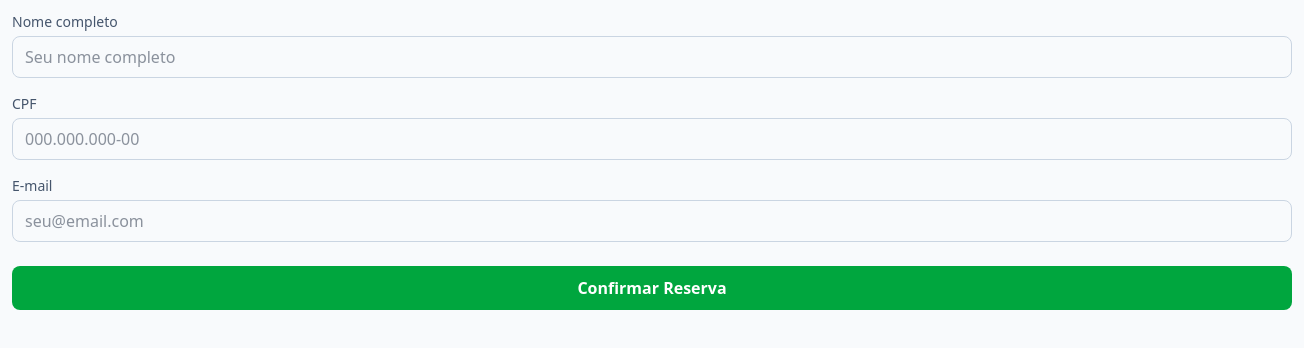
PassengerForm › exibe erro com CPF inválido
Type "João da Silva" into the field labelled "Nome completo" at (652, 57), box [12, 36, 1292, 78]
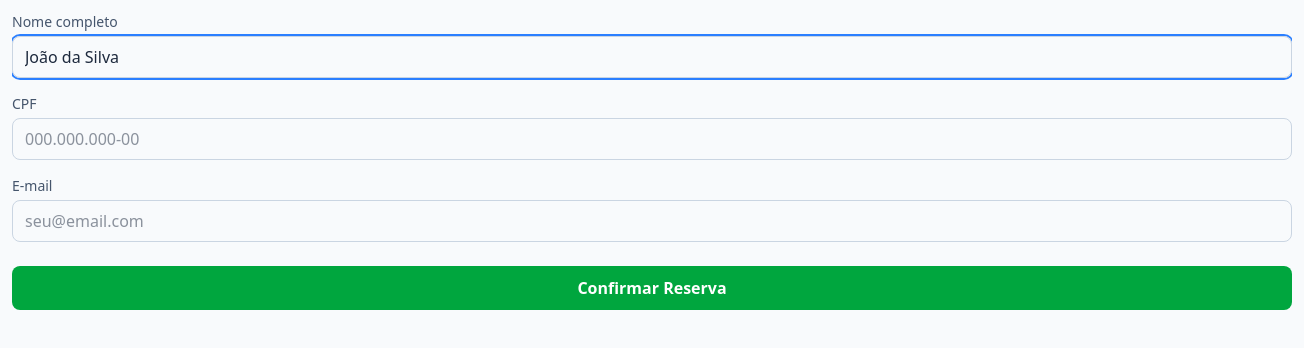
Type "111.111.111-11" into the field labelled "CPF" at (652, 139), box [12, 118, 1292, 160]
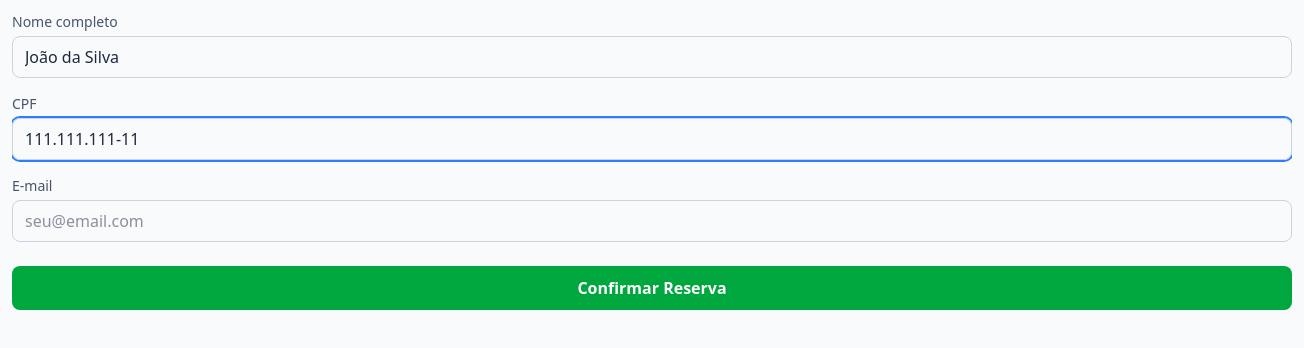
Type "joao@email.com" into the field labelled "E-mail" at (652, 221), box [12, 200, 1292, 242]
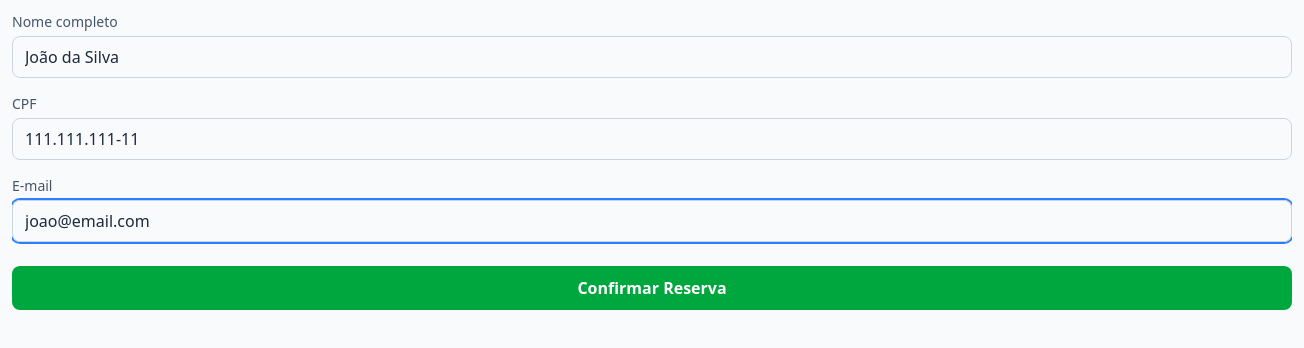
Click the button "Confirmar Reserva" at (652, 288), box [12, 266, 1292, 310]
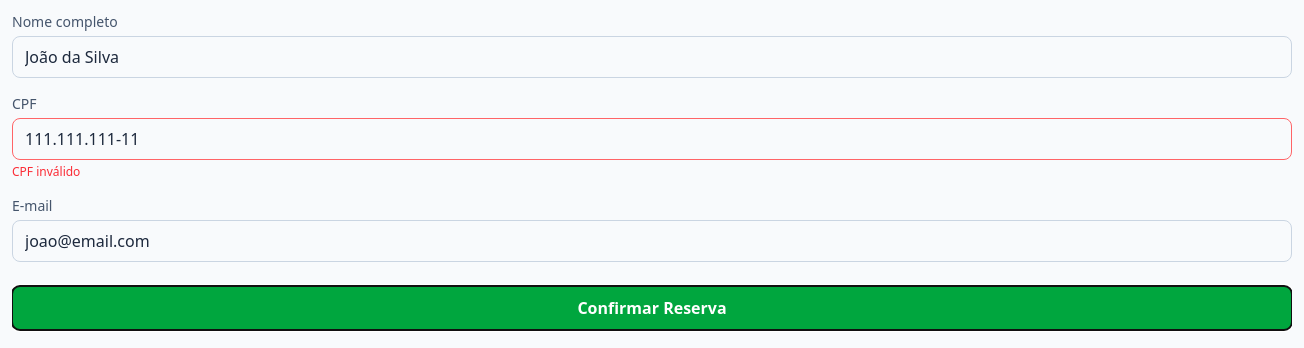
Check: the text "CPF inválido" is shown, box [12, 163, 80, 180]
